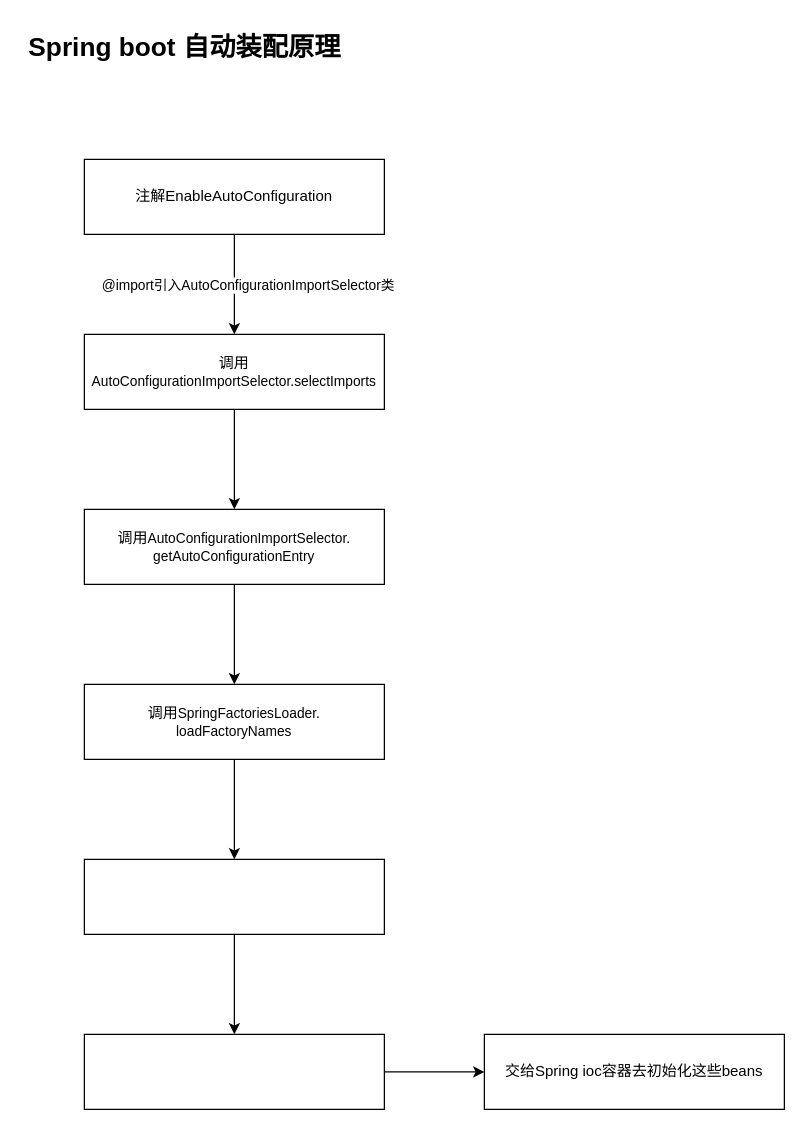
This 806x1131 diagram has some shape labels left out. Here are the shapes that lost their labels. From the top down, the box of each, then its label:
(83, 858, 384, 934): 加载META-INF/spring.factories 文件
(83, 1033, 384, 1109): 返回文件中的bean 定义
